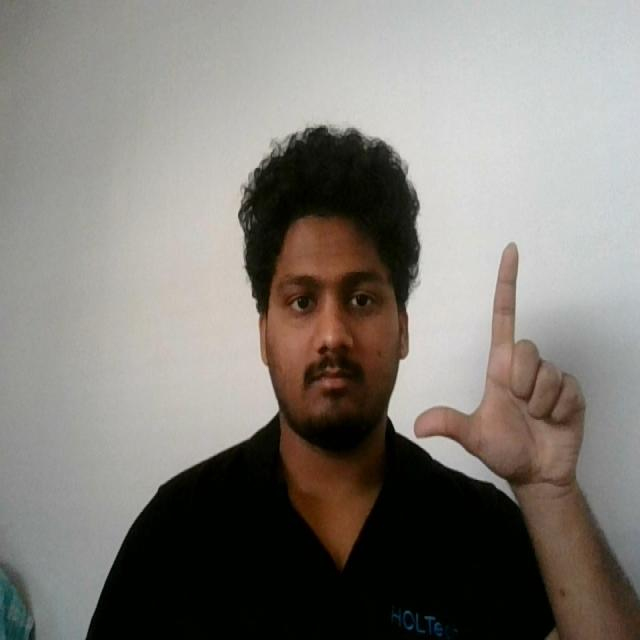IloveYou: (407, 235, 588, 497)
